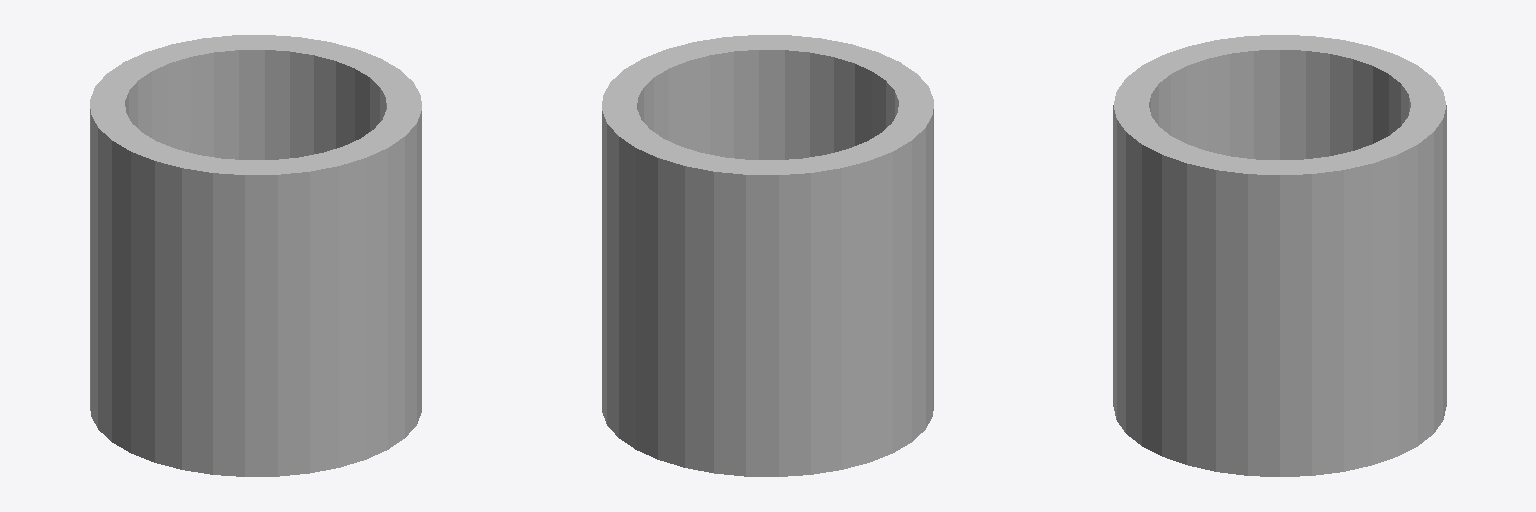
Rendered from well_base.obj.
3 renders of one model, left to right at view 1: azimuth 30°, elevation 25°; view 2: azimuth 150°, elevation 25°; view 3: azimuth 270°, elevation 25°, orthographic.
Parts seen in each view (by area): view 1: Cylinder; view 2: Cylinder; view 3: Cylinder.
Part boxes in pixels (x1,y1,x2,y2): Cylinder: (90, 35, 421, 476); Cylinder: (602, 35, 933, 476); Cylinder: (1113, 35, 1446, 476).
Size of the model in its own units: 2 by 2 by 2.